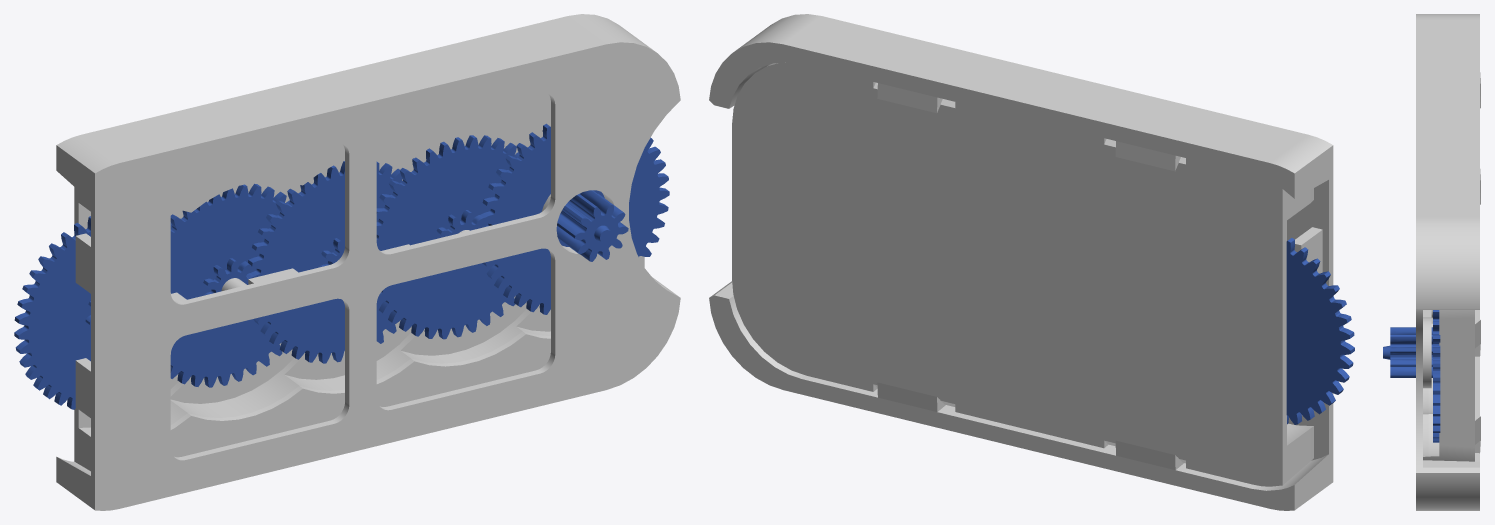
Rendered from jmcpheron-card.glb.
The picture shows the model from 3 angles, left to right: view 1: azimuth 30°, elevation 25°; view 2: azimuth 150°, elevation 25°; view 3: azimuth 270°, elevation 25°; orthographic projection. The views are drawn at different scales.
Parts seen in each view (by area): view 1: Part 1 (×2), Spur gear (40 teeth) (×5); view 2: Part 1 (×2), Spur gear (40 teeth); view 3: Part 1 (×2), Spur gear (40 teeth).
Part boxes in pixels (x1,y1,x2,y2): Part 1 (×2): (56, 14, 680, 510); Spur gear (40 teeth) (×5): (14, 123, 669, 409); Part 1 (×2): (709, 14, 1333, 510); Spur gear (40 teeth): (1286, 238, 1354, 424); Part 1 (×2): (1416, 14, 1480, 510); Spur gear (40 teeth): (1383, 310, 1440, 442).
Size of the model in its own units: 0.0853 by 0.0444 by 0.0137.
